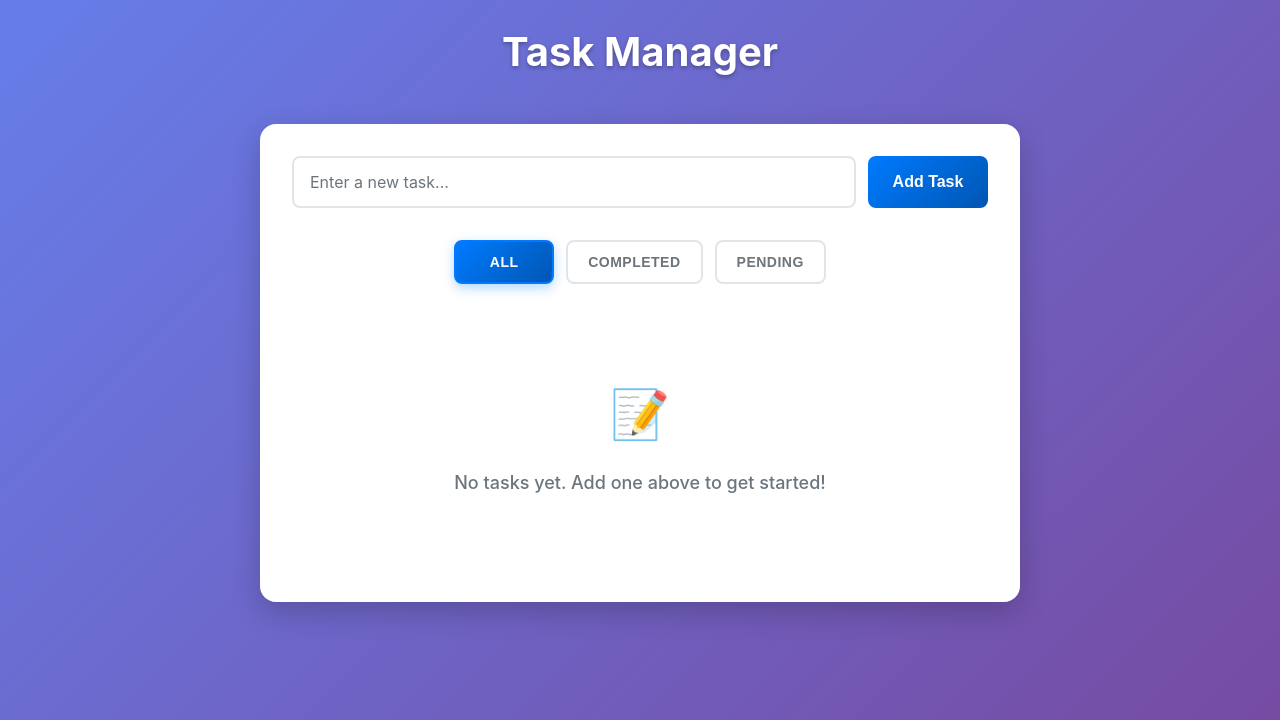
Test: App Integration Tests › Complete App Functionality › filter functionality across all states
// Add multiple tasks
Type "Completed task" into the field with placeholder "Enter a new task..." at (574, 182), box [292,156,856,208]
Click the button "Add Task" at (928, 182), box [868,156,988,208]
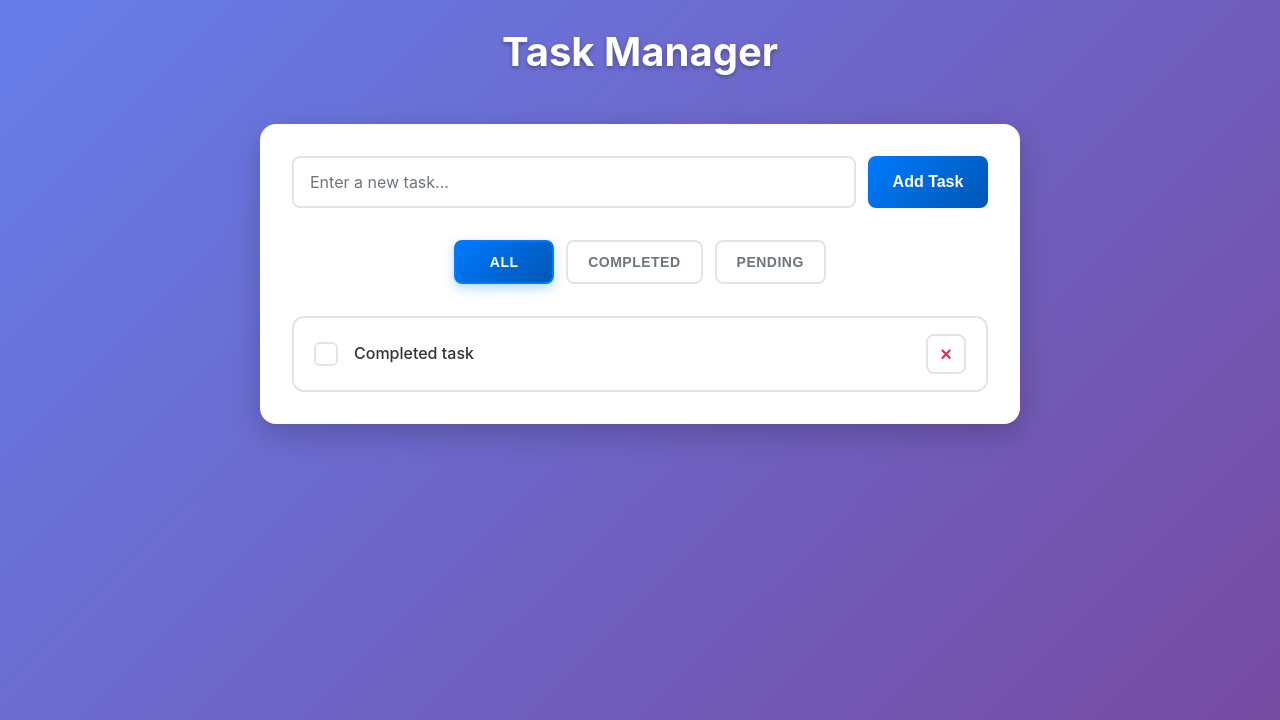
Type "Pending task" into the field with placeholder "Enter a new task..." at (574, 182), box [292,156,856,208]
Click the button "Add Task" at (928, 182), box [868,156,988,208]
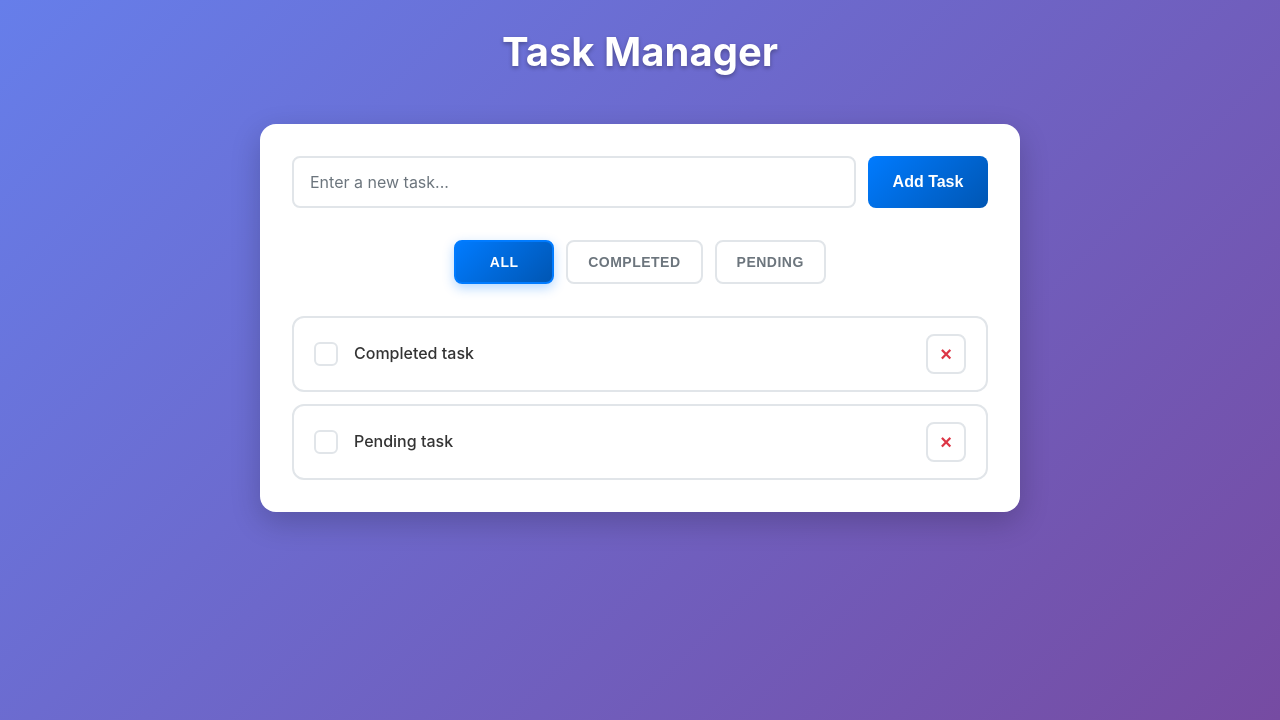
// Mark first task as completed
Click the checkbox named "Mark \"Completed task\" as complete" at (326, 354), box [314,342,338,366]
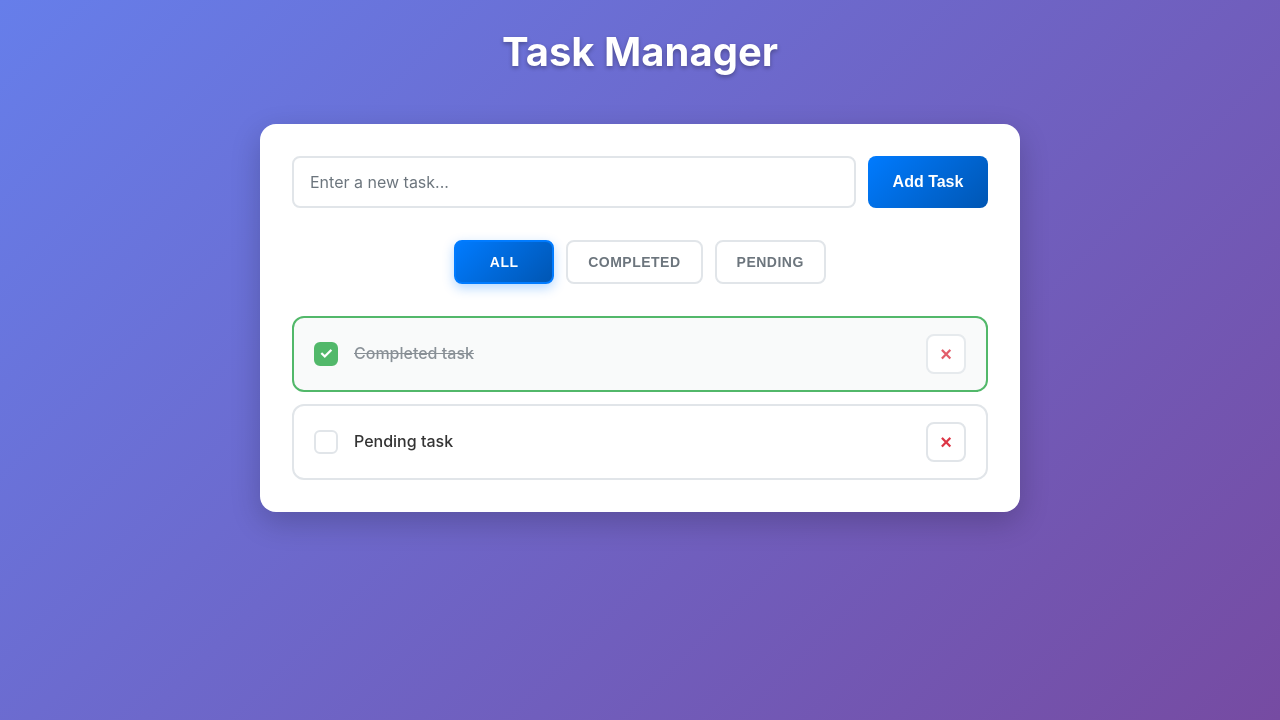
Check: the text "Completed task" is shown, box [354,341,474,367]
Check: the text "Pending task" is shown, box [354,429,453,455]
// Test "Completed" filter
Click the button with aria-label "show completed tasks" at (634, 262), box [566,240,703,284]
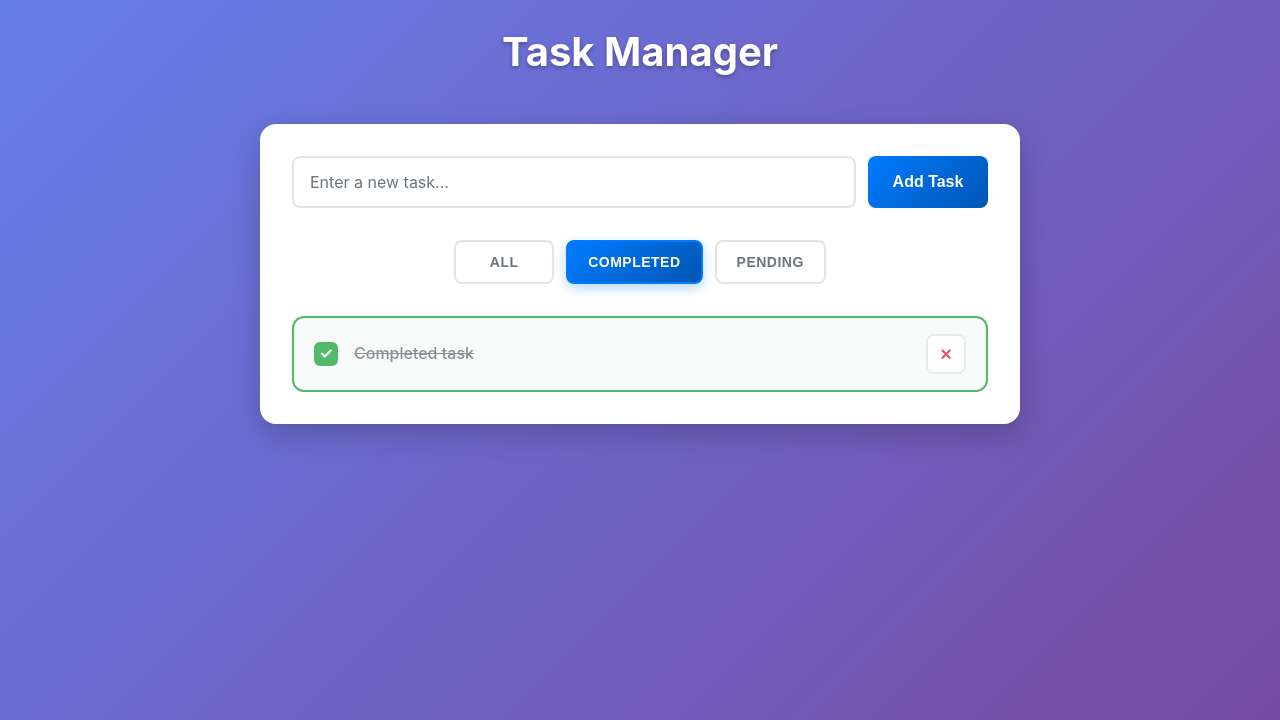
Check: the text "Completed task" is shown, box [354,341,474,367]
Check: the text "Pending task" is gone
// Test "Pending" filter
Click the button with aria-label "show pending tasks" at (770, 262), box [714,240,826,284]
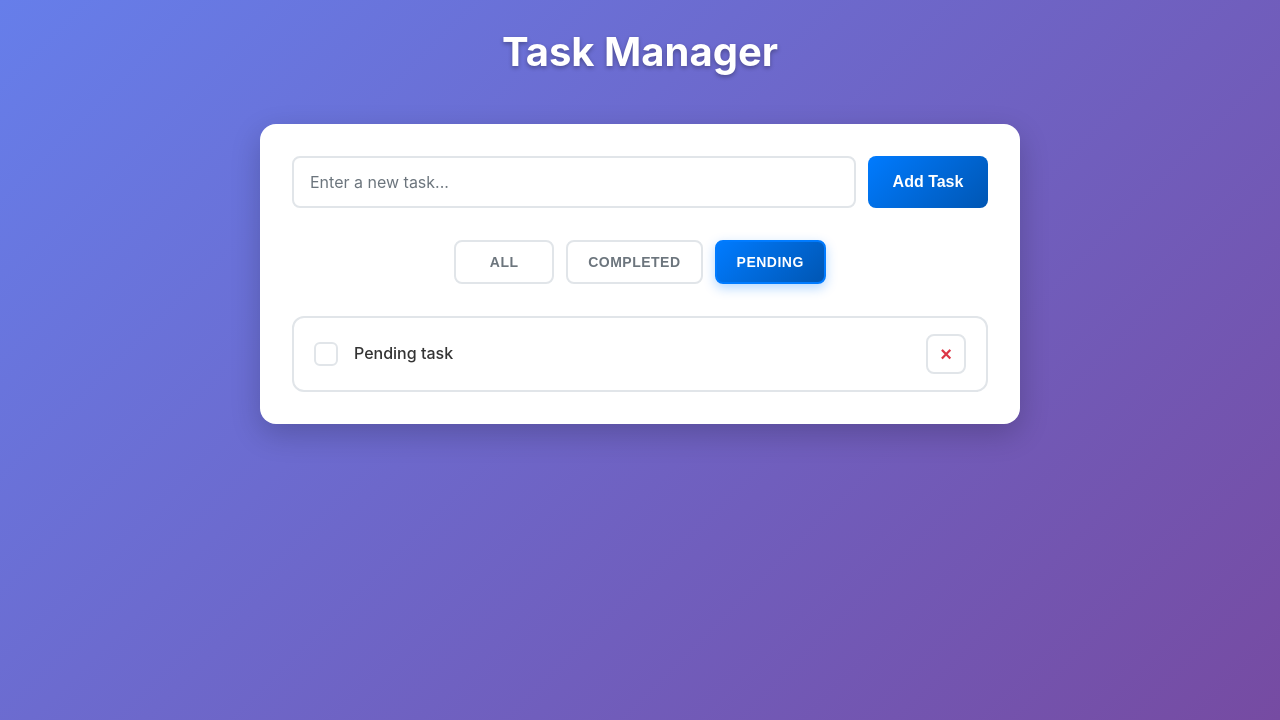
Check: the text "Completed task" is gone
Check: the text "Pending task" is shown, box [354,341,453,367]
// Return to "All" filter
Click the button with aria-label "show all tasks" at (504, 262), box [454,240,554,284]
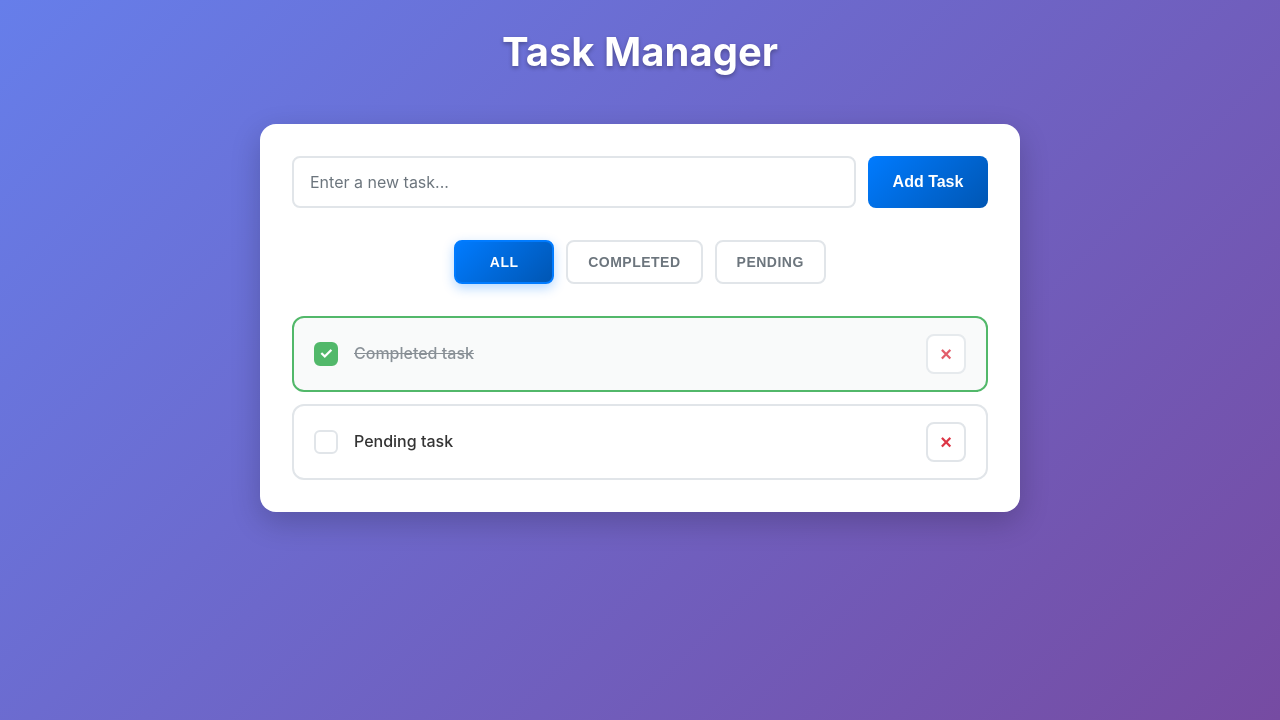
Check: the text "Pending task" is shown, box [354,429,453,455]
Check: the text "Completed task" is shown, box [354,341,474,367]
